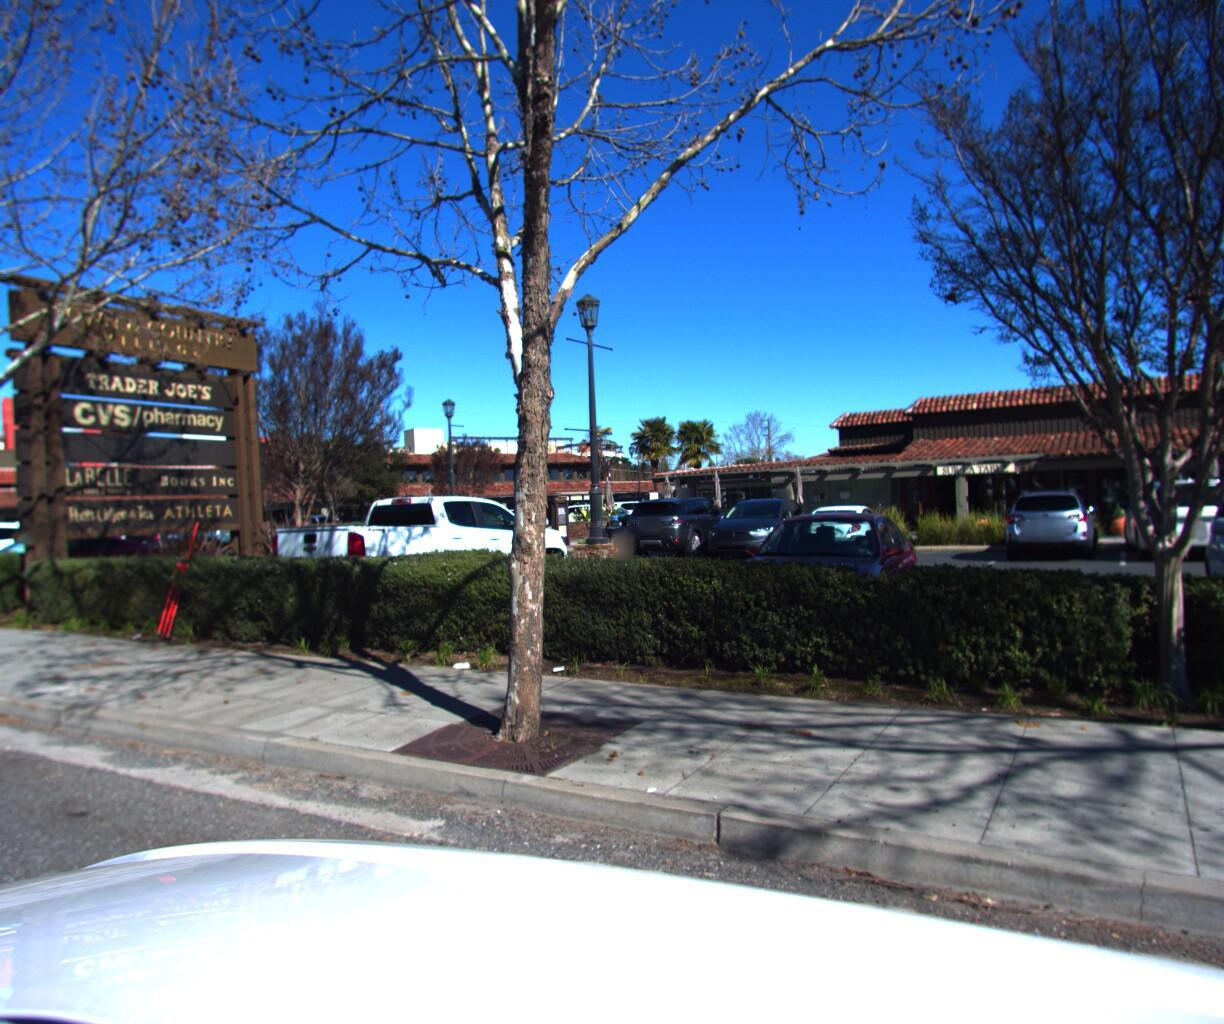car: (247, 482, 582, 637), (712, 496, 940, 679), (0, 517, 196, 627), (1185, 414, 1224, 677), (0, 514, 70, 610)
